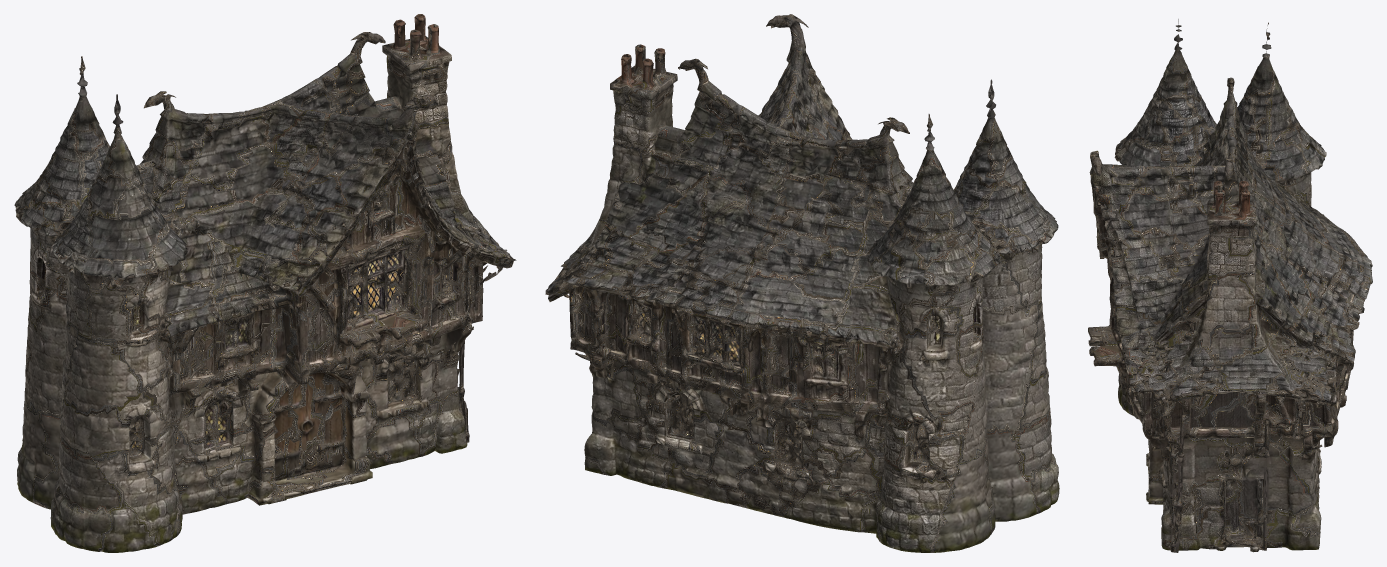
File: cottage.glb
3 renders of one model, left to right at view 1: azimuth 30°, elevation 25°; view 2: azimuth 150°, elevation 25°; view 3: azimuth 270°, elevation 25°, orthographic. The views are drawn at different scales.
Bounding box in the file's own units: 1.9 × 1.77 × 1.18.
Materials: 1 (1 with a texture image).
